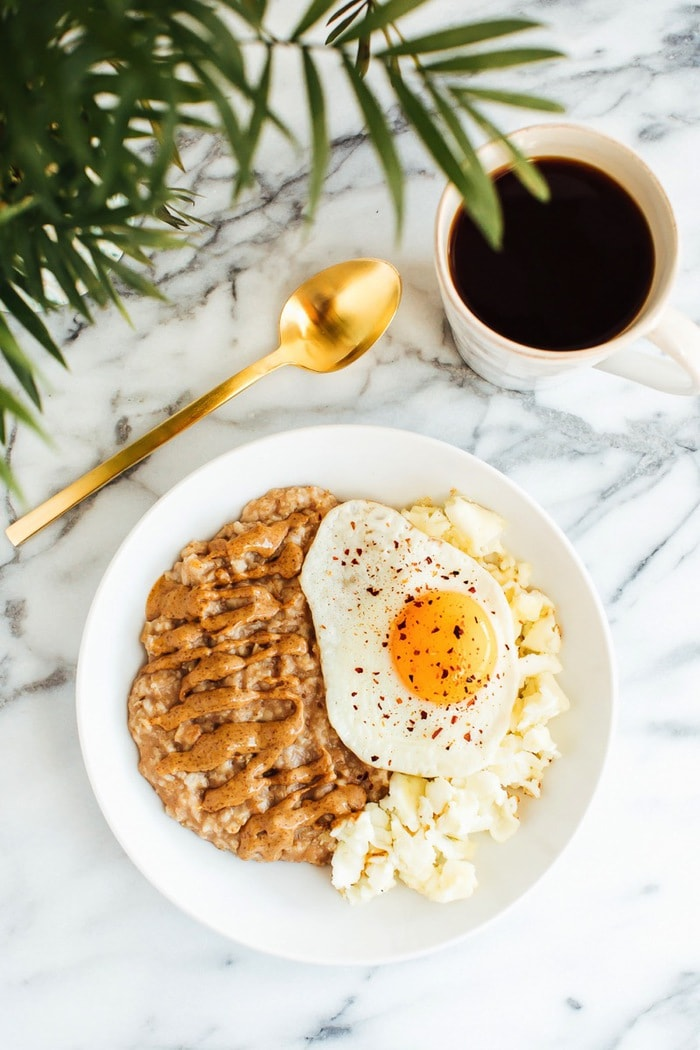fried egg: (315, 511, 516, 758)
